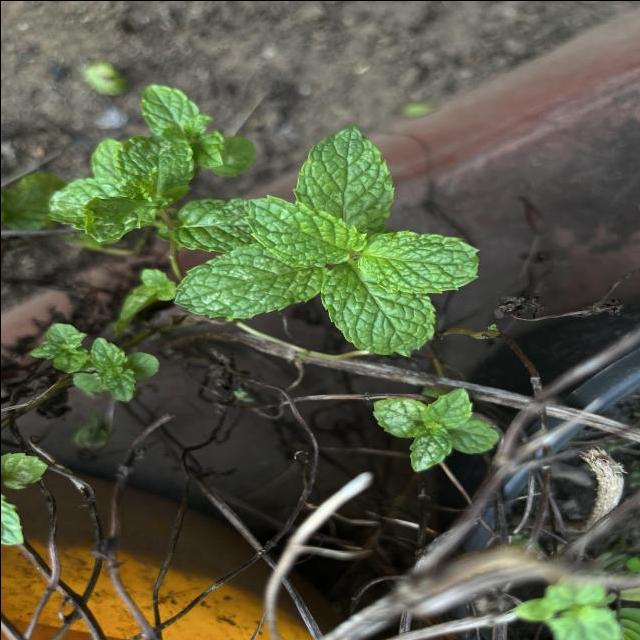Mentha spicata: (172, 242, 321, 320), (290, 122, 396, 230), (318, 262, 437, 358), (242, 193, 368, 268), (356, 228, 480, 294)
